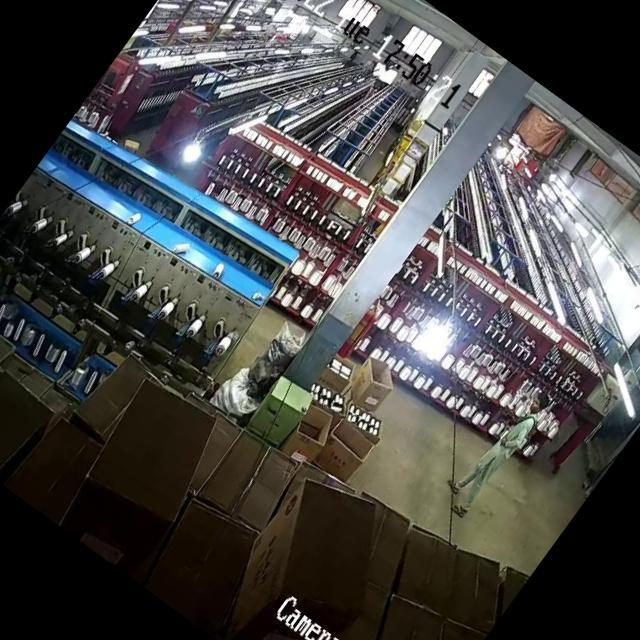person: (444, 386, 554, 524)
